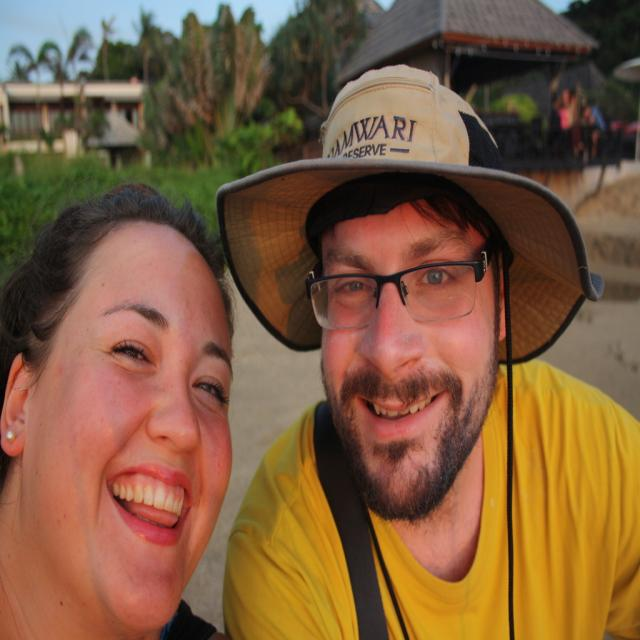Hat: (216, 64, 606, 364)
